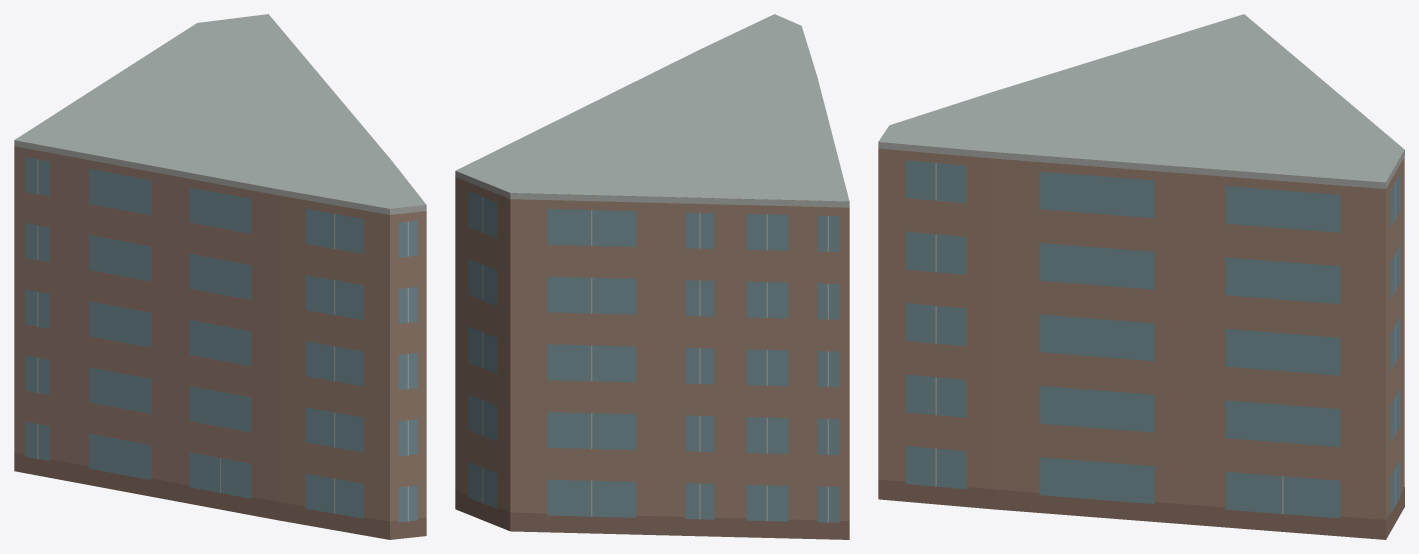
Rendered from survey-upis-32770895.glb.
3 views of the same model, side by side, from view 1: azimuth 30°, elevation 25°; view 2: azimuth 150°, elevation 25°; view 3: azimuth 270°, elevation 25° (orthographic). The views are drawn at different scales.
Parts seen in each view (by area): view 1: survey-upis-32770895.tmp; view 2: survey-upis-32770895.tmp; view 3: survey-upis-32770895.tmp.
Part boxes in pixels (x1,y1,x2,y2): survey-upis-32770895.tmp: [14, 14, 426, 539]; survey-upis-32770895.tmp: [455, 14, 849, 539]; survey-upis-32770895.tmp: [878, 14, 1404, 539].
Bounding box in the file's own units: 13.46 × 13.3 × 17.78.
